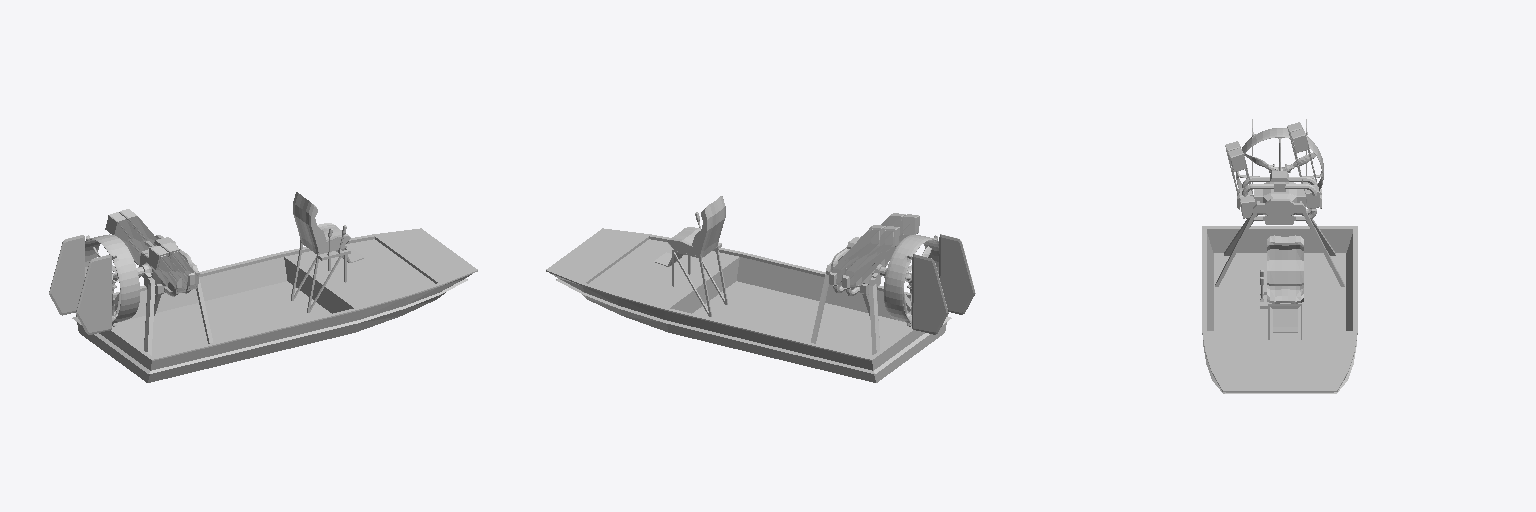
The model's file is airboat.obj.
The picture shows the model from 3 angles: view 1: azimuth 30°, elevation 25°; view 2: azimuth 150°, elevation 25°; view 3: azimuth 270°, elevation 25°; orthographic projection.
Size of the model in its own units: 16.23 by 5.39 by 5.68.